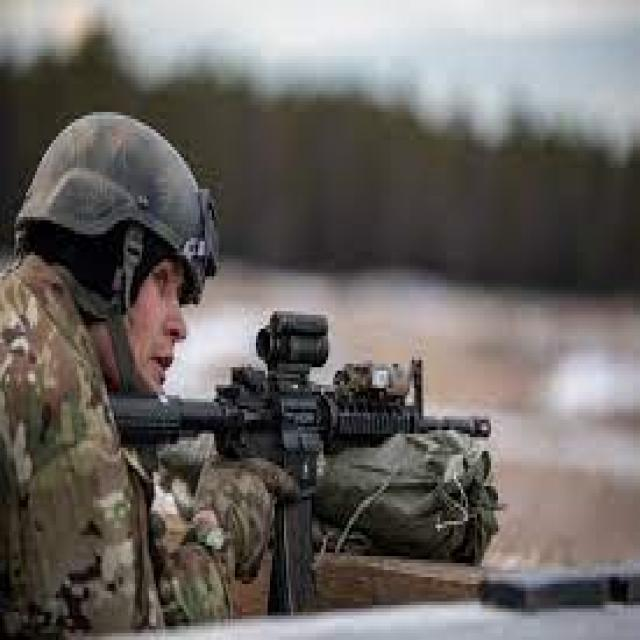m16: (91, 251, 506, 611)
